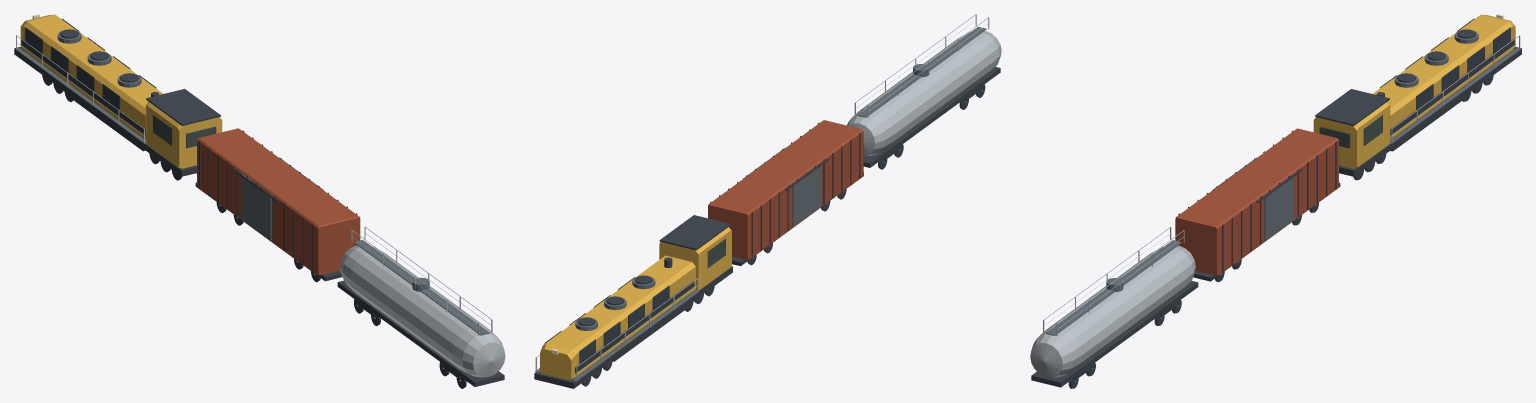
File: RAIL_05.obj
The picture shows the model from 3 angles, left to right: view 1: azimuth 30°, elevation 25°; view 2: azimuth 150°, elevation 25°; view 3: azimuth 330°, elevation 25°; orthographic projection. The views are drawn at different scales.
Visible parts, largest first — view 1: boxcar, tank, hood, cab, hood_doors, cab_roof, loco_frame, boxcar_door, tank_frame, handrails, walkway, boxcar_ribs (+3 smaller); view 2: boxcar, tank, hood, cab, hood_doors, loco_frame, cab_roof, handrails, boxcar_door, tank_frame, walkway, boxcar_ribs (+2 smaller); view 3: boxcar, tank, hood, cab, hood_doors, cab_roof, loco_frame, tank_frame, boxcar_door, handrails, walkway, boxcar_ribs (+3 smaller).
Part boxes in pixels (x1=…): boxcar: x1=197, y1=128, x2=360, y2=275; tank: x1=340, y1=245, x2=505, y2=377; hood: x1=20, y1=14, x2=163, y2=139; cab: x1=145, y1=101, x2=222, y2=168; hood_doors: x1=25, y1=18, x2=156, y2=116; cab_roof: x1=146, y1=89, x2=220, y2=125; loco_frame: x1=14, y1=47, x2=196, y2=176; boxcar_door: x1=241, y1=167, x2=312, y2=240; tank_frame: x1=337, y1=280, x2=504, y2=386; handrails: x1=16, y1=35, x2=492, y2=335; walkway: x1=354, y1=240, x2=489, y2=335; boxcar_ribs: x1=199, y1=130, x2=357, y2=271; boxcar: x1=708, y1=120, x2=863, y2=260; tank: x1=847, y1=31, x2=1001, y2=156; hood: x1=540, y1=255, x2=695, y2=380; cab: x1=659, y1=227, x2=731, y2=290; hood_doors: x1=544, y1=277, x2=669, y2=370; loco_frame: x1=534, y1=266, x2=732, y2=388; cab_roof: x1=659, y1=215, x2=730, y2=250; handrails: x1=535, y1=14, x2=989, y2=380; boxcar_door: x1=772, y1=157, x2=821, y2=226; tank_frame: x1=863, y1=67, x2=1000, y2=167; walkway: x1=857, y1=26, x2=986, y2=117; boxcar_ribs: x1=710, y1=122, x2=860, y2=257; boxcar: x1=1175, y1=128, x2=1338, y2=275; tank: x1=1030, y1=245, x2=1195, y2=377; hood: x1=1373, y1=14, x2=1515, y2=139; cab: x1=1313, y1=102, x2=1390, y2=168; hood_doors: x1=1379, y1=18, x2=1510, y2=116; cab_roof: x1=1315, y1=89, x2=1389, y2=125; loco_frame: x1=1339, y1=47, x2=1521, y2=176; tank_frame: x1=1031, y1=281, x2=1198, y2=387; boxcar_door: x1=1264, y1=177, x2=1294, y2=240; handrails: x1=1043, y1=35, x2=1520, y2=335; walkway: x1=1046, y1=240, x2=1181, y2=335; boxcar_ribs: x1=1178, y1=130, x2=1336, y2=272.
Size of the model in its own units: 3.1 by 4.76 by 53.2.
